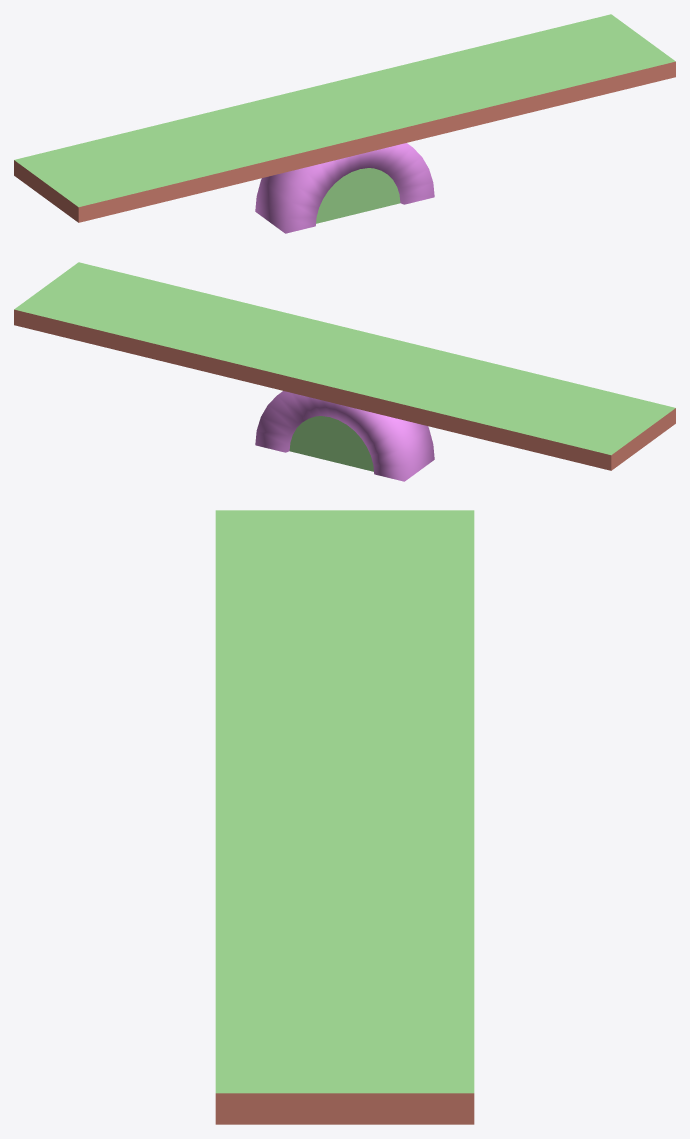
File: TeeterTotter.fbx
The picture shows the model from 3 angles, top to bottom: view 1: azimuth 30°, elevation 25°; view 2: azimuth 150°, elevation 25°; view 3: azimuth 270°, elevation 25°; orthographic projection. The views are drawn at different scales.
Visible parts, largest first — view 1: TeeterTotter, TeeterTotterBase; view 2: TeeterTotter, TeeterTotterBase; view 3: TeeterTotter.
Part boxes in pixels (left/top/right/bottom): TeeterTotter: left=14, top=14, right=675, bottom=222; TeeterTotterBase: left=255, top=143, right=434, bottom=233; TeeterTotter: left=14, top=262, right=675, bottom=470; TeeterTotterBase: left=255, top=391, right=434, bottom=481; TeeterTotter: left=215, top=510, right=474, bottom=1124.
Bounding box in the file's own units: 8 × 1.2 × 1.5.
